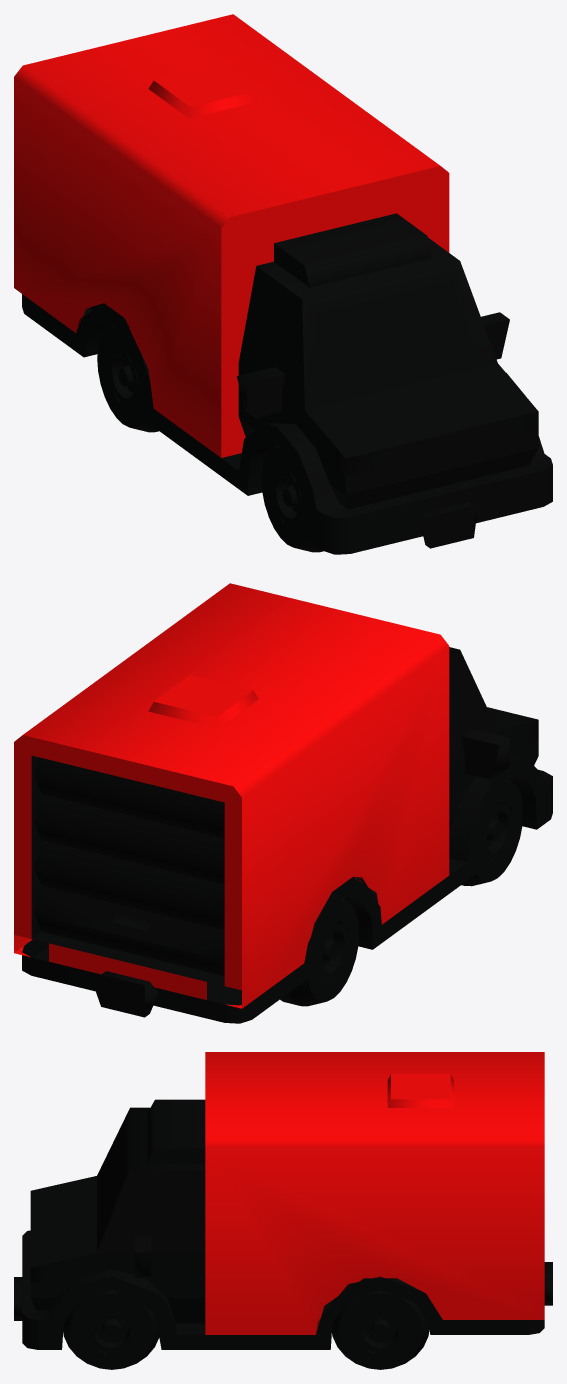
Rendered from delivery.glb.
3 views of the same model, one above another, from view 1: azimuth 30°, elevation 25°; view 2: azimuth 150°, elevation 25°; view 3: azimuth 270°, elevation 25° (orthographic). The views are drawn at different scales.
Parts seen in each view (by area): view 1: body, wheel-front-right, wheel-back-right; view 2: body, door, wheel-back-right, wheel-front-right; view 3: body, wheel-back-left, wheel-front-left.
Part boxes in pixels (<box>): body: <box>14,14,552,554</box>; wheel-front-right: <box>261,444,323,552</box>; wheel-back-right: <box>97,324,158,432</box>; body: <box>14,583,552,1023</box>; door: <box>34,757,224,976</box>; wheel-back-right: <box>280,898,358,1006</box>; wheel-front-right: <box>461,778,522,886</box>; body: <box>14,1052,552,1349</box>; wheel-back-left: <box>332,1278,429,1369</box>; wheel-front-left: <box>63,1290,159,1369</box>.
Bounding box in the file's own units: 1.5 × 1.65 × 3.25.
1 material, 1 textured.
